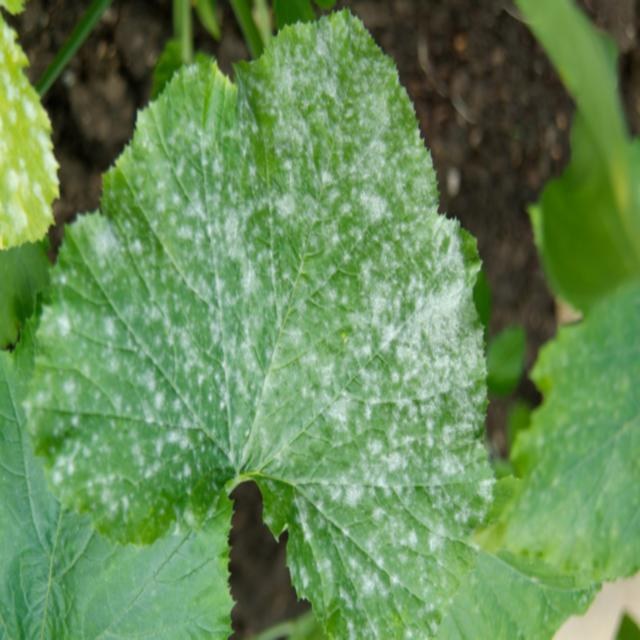Powdery Mildew: (22, 7, 498, 637)
